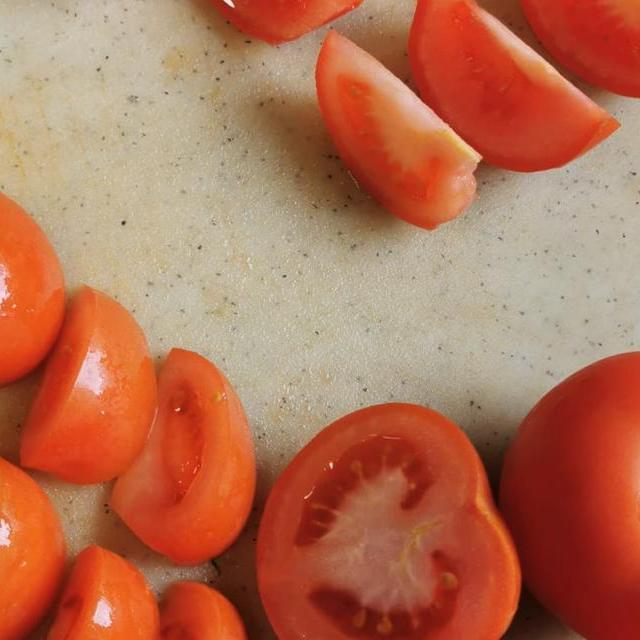tomato: (0, 157, 266, 640), (296, 0, 640, 237), (254, 397, 516, 640), (491, 322, 640, 640)
